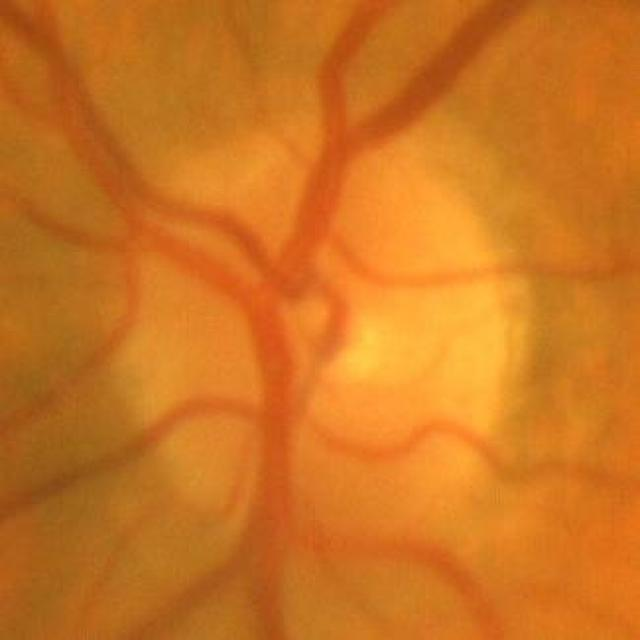OC: (280, 284, 381, 388)
OD: (118, 134, 515, 546)
